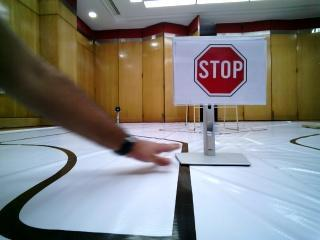stop: (175, 45, 263, 100)
